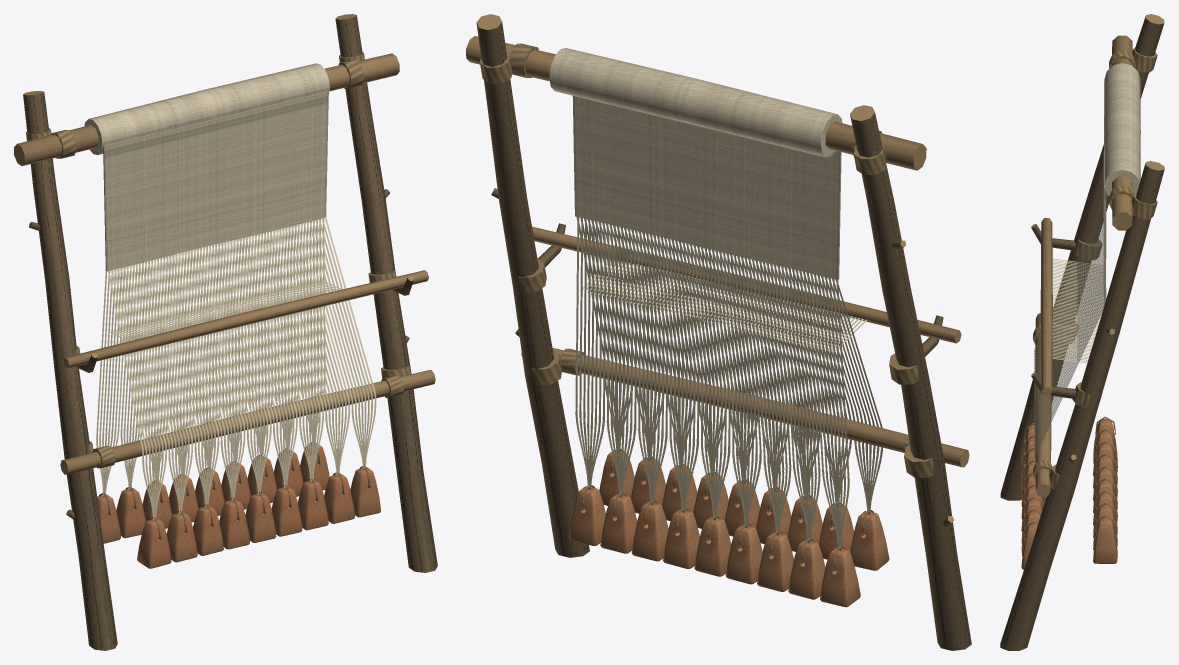
File: loom_weaving.glb
3 renders of one model, left to right at view 1: azimuth 30°, elevation 25°; view 2: azimuth 150°, elevation 25°; view 3: azimuth 270°, elevation 25°, orthographic. The views are drawn at different scales.
Parts seen in each view (by area): view 1: warp, frame, cloth, weight_09_front, weight_16_front, weight_14_front, weight_11_front, weight_15_front, weight_10_front, weight_13_front, weight_17_front, weight_12_front (+10 smaller); view 2: warp, frame, cloth, weight_00_back, weight_09_front, weight_01_back, weight_03_back, weight_05_back, weight_08_back, weight_06_back, weight_04_back, weight_02_back (+10 smaller); view 3: frame, warp, cloth, tie_loops, weight_08_back, weight_17_front, weight_07_back, weight_04_back, weight_06_back, weight_03_back, weight_02_back, weight_05_back (+2 smaller).
Boxes of the visible parts, x1,y1,x2,y2 form: warp: (96,217,376,521); frame: (14,14,437,650); cloth: (84,63,329,271); weight_09_front: (137,518,171,568); weight_16_front: (324,473,354,523); weight_14_front: (271,486,302,536); weight_11_front: (193,505,223,555); weight_15_front: (298,480,328,530); weight_10_front: (166,512,197,562); weight_13_front: (245,492,276,542); weight_17_front: (350,467,380,517); weight_12_front: (219,499,249,549); warp: (575,217,882,550); frame: (466,14,971,650); cloth: (549,48,842,279); weight_00_back: (820,547,860,607); weight_09_front: (850,511,889,570); weight_01_back: (788,539,825,599); weight_03_back: (725,524,762,584); weight_05_back: (663,509,699,568); weight_08_back: (569,486,605,545); weight_06_back: (631,501,668,561); weight_04_back: (694,516,731,576); weight_02_back: (757,532,793,591); frame: (1000,14,1164,650); warp: (1034,207,1104,460); cloth: (1103,63,1140,304); tie_loops: (1023,416,1115,539); weight_08_back: (1093,517,1117,563); weight_17_front: (1021,523,1037,569); weight_07_back: (1093,505,1117,550); weight_04_back: (1093,468,1117,513); weight_06_back: (1093,493,1117,537); weight_03_back: (1093,456,1117,500); weight_02_back: (1093,443,1117,488); weight_05_back: (1093,480,1117,525).
Size of the model in its own units: 1.5 by 1.91 by 0.5916.
Materials: 3 (3 with a texture image).
